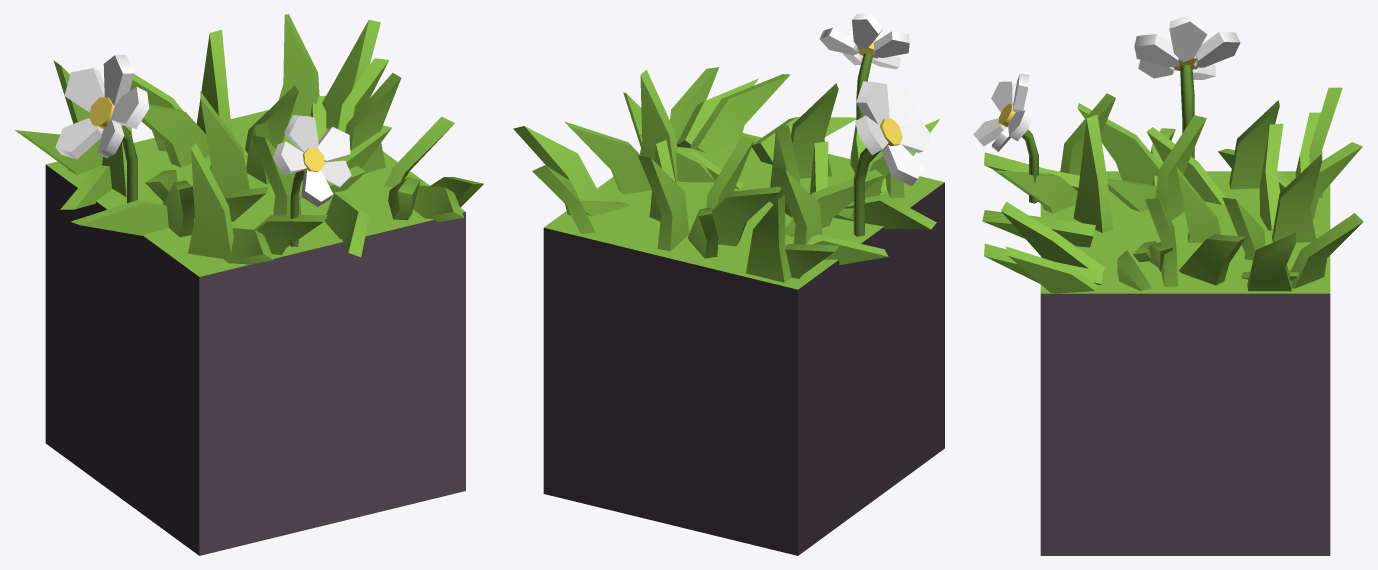
The model's file is tile_floor_nature_grass03.FBX.
3 renders of one model, left to right at view 1: azimuth 30°, elevation 25°; view 2: azimuth 150°, elevation 25°; view 3: azimuth 270°, elevation 25°, orthographic. The views are drawn at different scales.
Visible parts, largest first — view 1: tile_floor_nature_grass03; view 2: tile_floor_nature_grass03; view 3: tile_floor_nature_grass03.
Boxes of the visible parts, x1,y1,x2,y2 form: tile_floor_nature_grass03: (15,14,483,555); tile_floor_nature_grass03: (513,14,944,555); tile_floor_nature_grass03: (973,14,1363,555).
Bounding box in the file's own units: 55.36 × 62.61 × 53.11.
